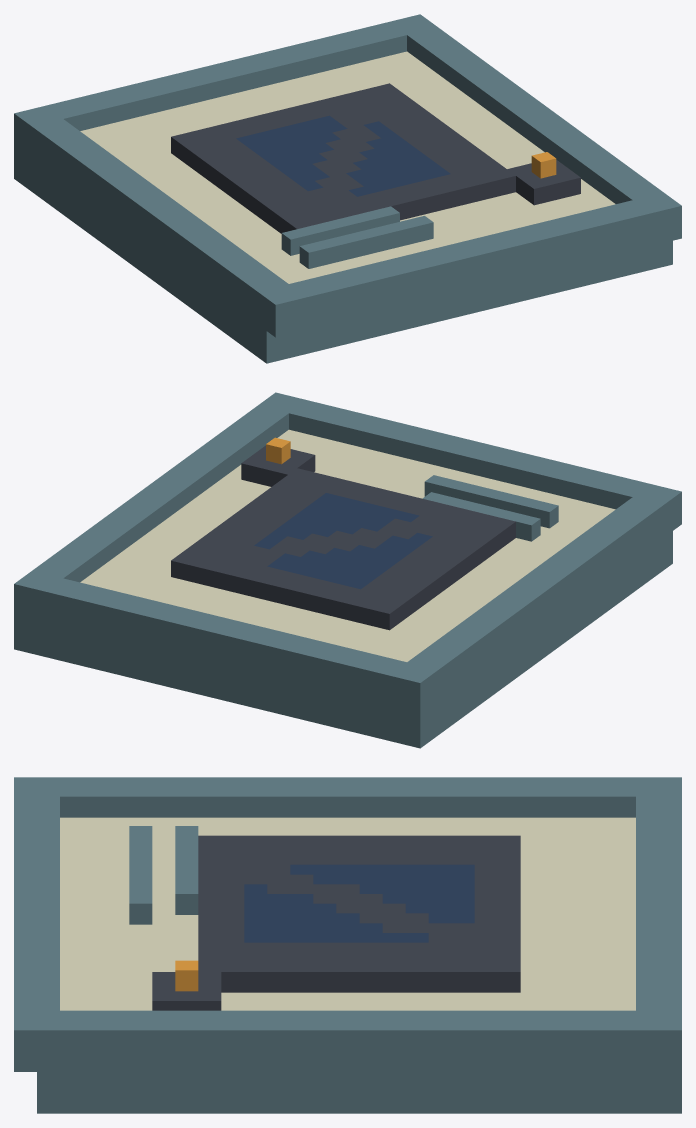
File: voxel_32_70167.glb
3 renders of one model, top to bottom at view 1: azimuth 30°, elevation 25°; view 2: azimuth 150°, elevation 25°; view 3: azimuth 270°, elevation 25°, orthographic. The views are drawn at different scales.
Visible parts, largest first — view 1: prop_70167; view 2: prop_70167; view 3: prop_70167.
Boxes of the visible parts, x1,y1,x2,y2 form: prop_70167: (14,14,681,363); prop_70167: (14,392,681,748); prop_70167: (14,777,681,1113).
Size of the model in its own units: 0.6744 by 0.1297 by 0.7522.
